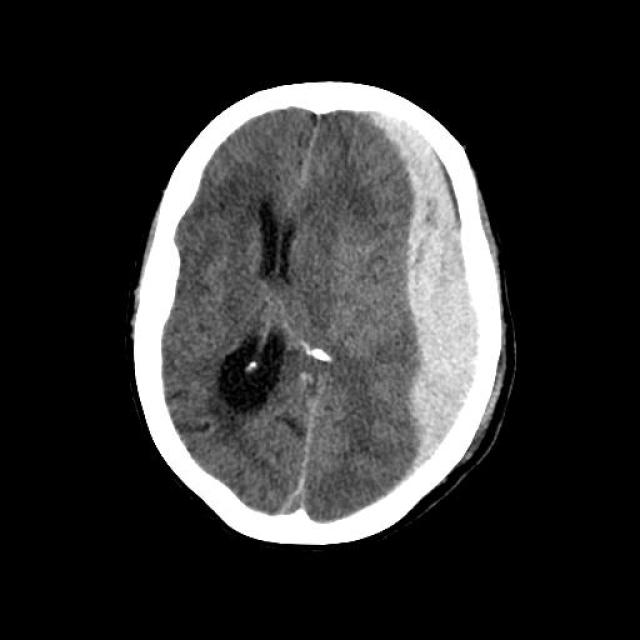Subdural: (354, 105, 484, 479)
